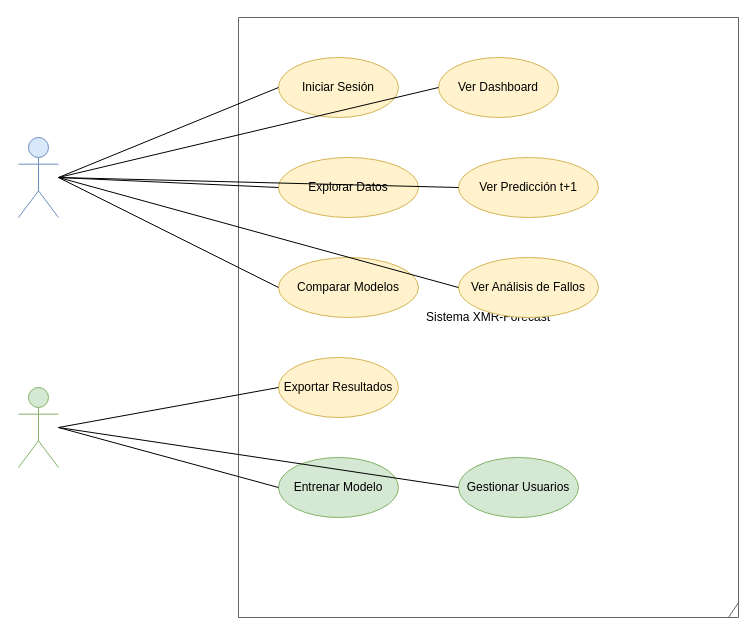
This 756x635 diagram has some shape labels left out. Each missing label, with the centre of its shape:
Analista: (x=38, y=427)
Viewer: (x=38, y=177)
